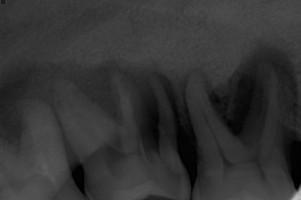Dental Caries: (0, 58, 196, 145), (205, 37, 301, 147)
